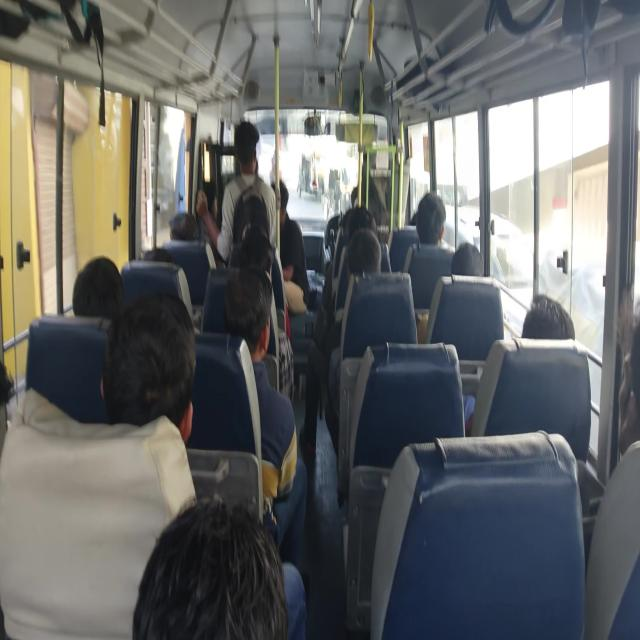person: (133, 506, 365, 640), (108, 311, 204, 420), (450, 238, 564, 328), (422, 191, 492, 289), (0, 367, 29, 559), (520, 298, 582, 374), (525, 280, 583, 354), (268, 163, 310, 247), (225, 270, 265, 350), (605, 352, 640, 443), (73, 244, 117, 306), (230, 127, 264, 189), (199, 186, 226, 244), (352, 214, 382, 256), (179, 214, 207, 255), (150, 236, 180, 273), (238, 235, 272, 265), (236, 221, 260, 253), (354, 226, 374, 261)
